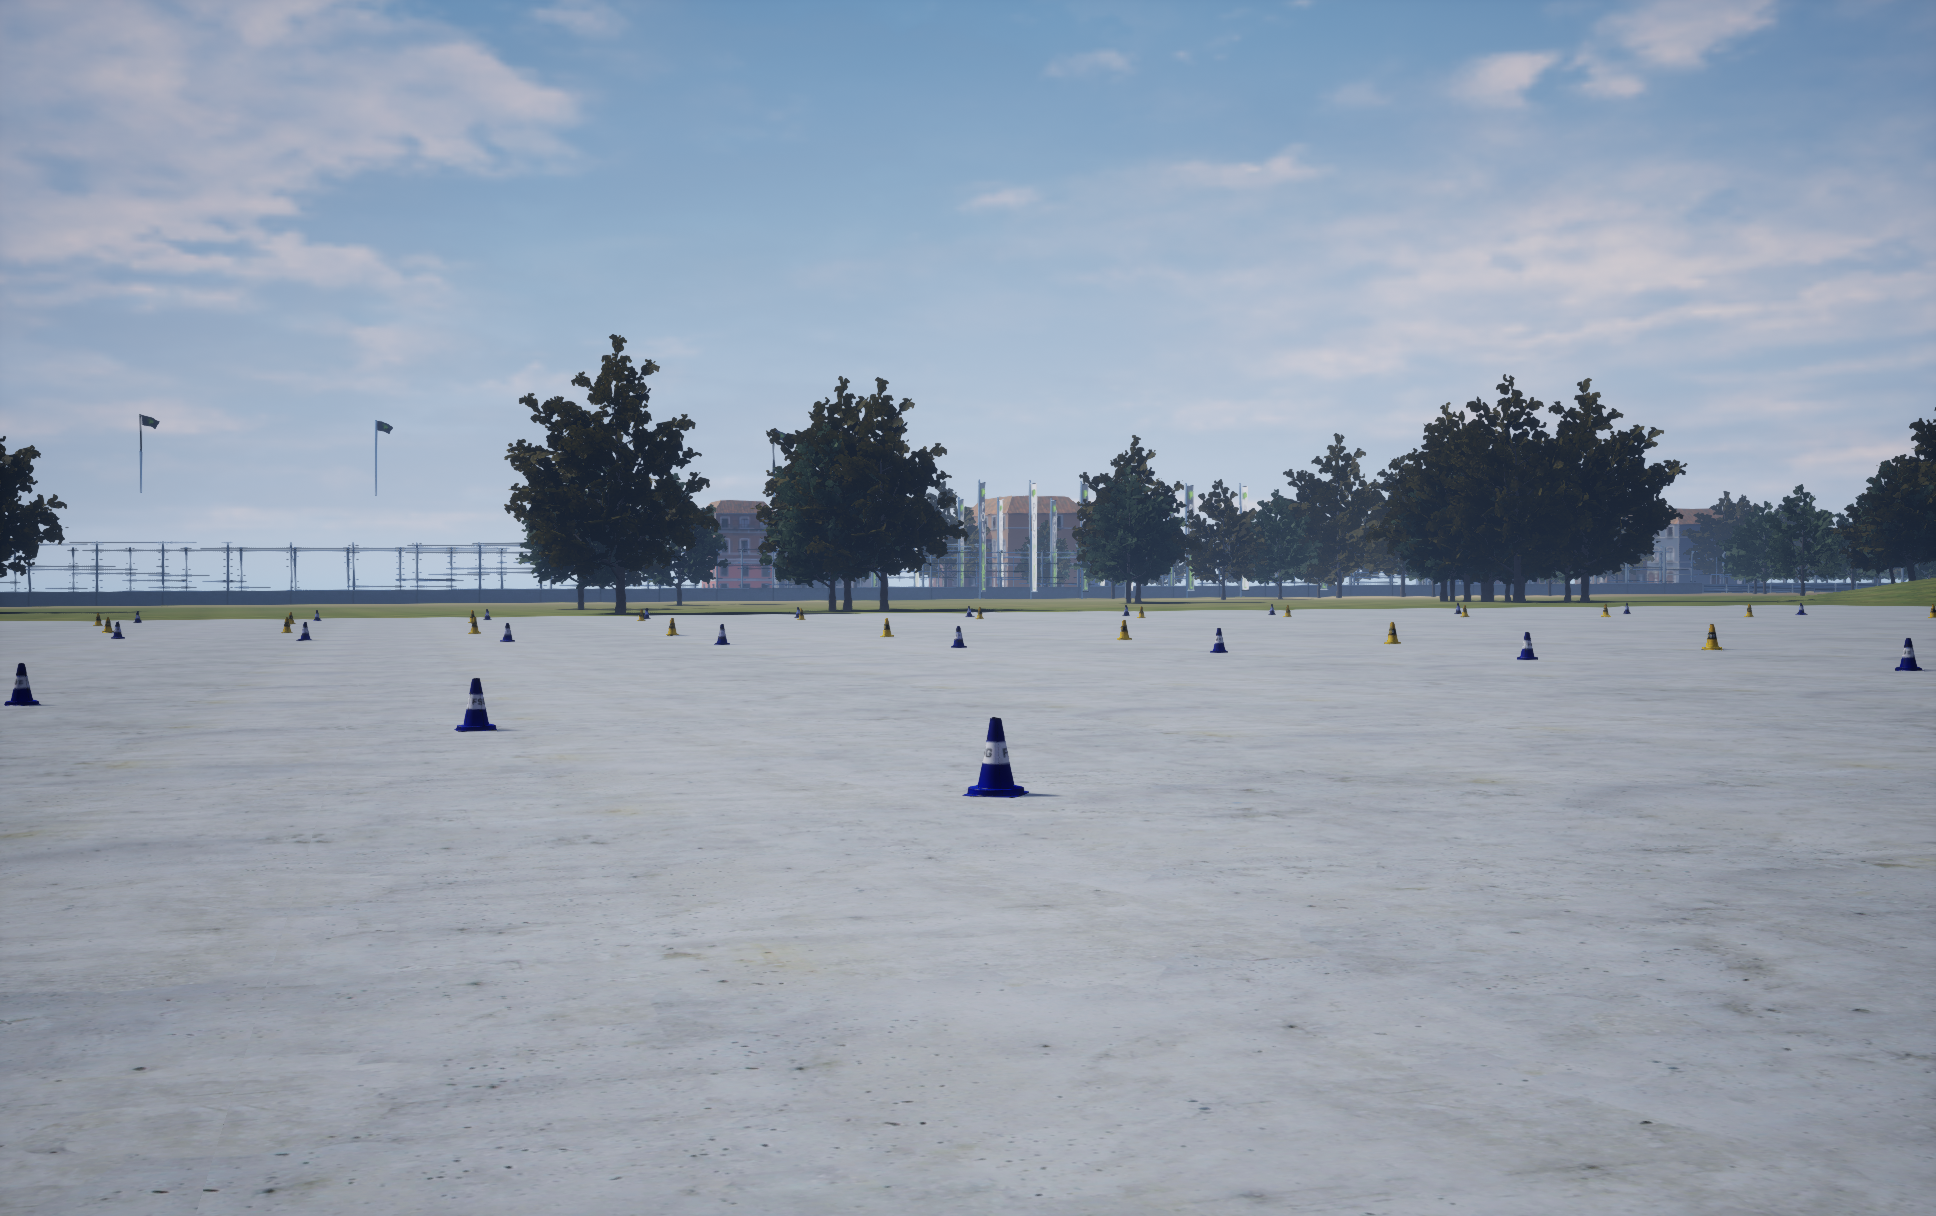blue: (1701, 623, 1722, 649), (1384, 622, 1399, 643), (1116, 621, 1131, 639), (880, 618, 892, 636)
yellow: (962, 717, 1028, 797), (454, 678, 496, 731), (4, 663, 41, 705), (1895, 637, 1923, 670), (1517, 632, 1537, 658), (1210, 628, 1227, 651), (951, 626, 967, 647), (714, 623, 728, 644), (500, 623, 514, 642)
